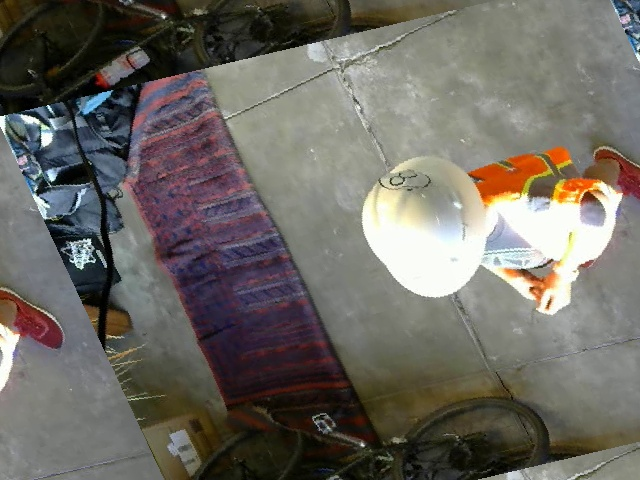eight: (374, 162, 433, 198)
